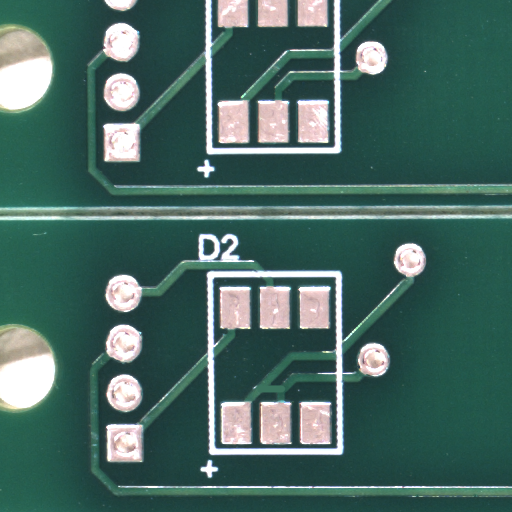Short: (270, 388, 302, 400)
